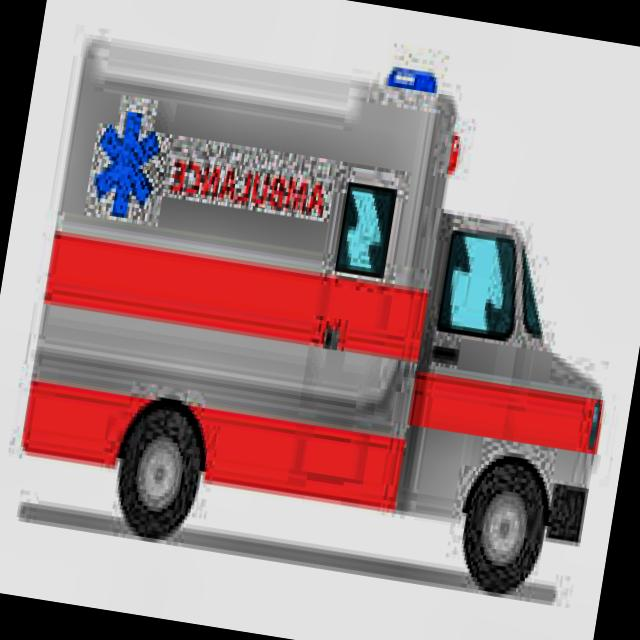Ambulance: (13, 3, 640, 600)
